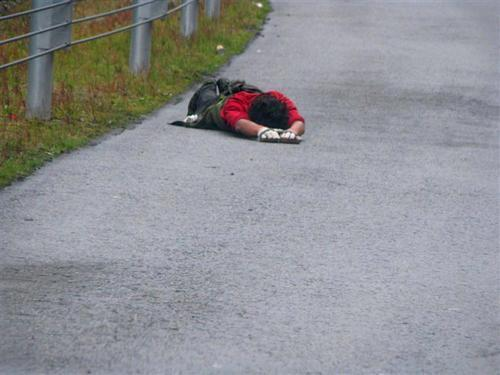Fall-Detected: (170, 64, 309, 148)
